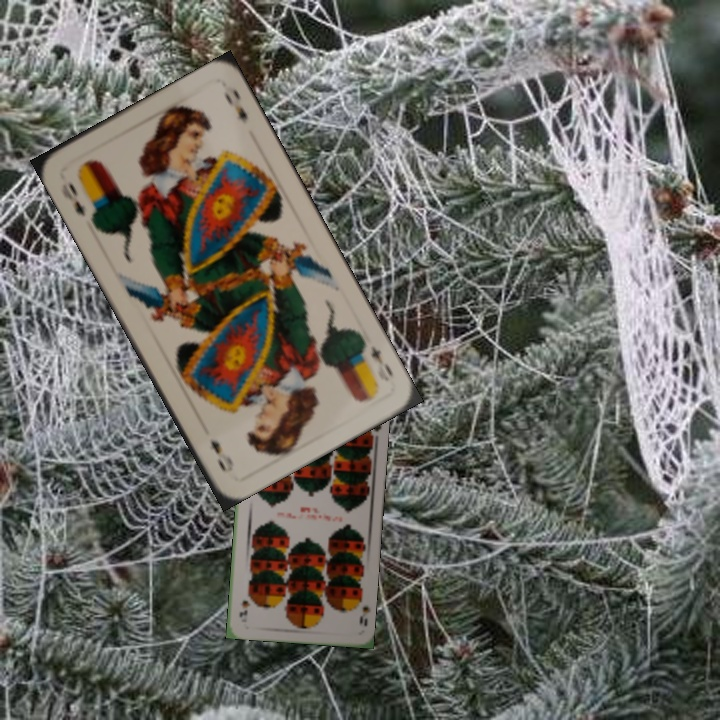EO: (357, 336, 396, 380), (64, 178, 89, 220)
S9: (352, 591, 372, 629)
